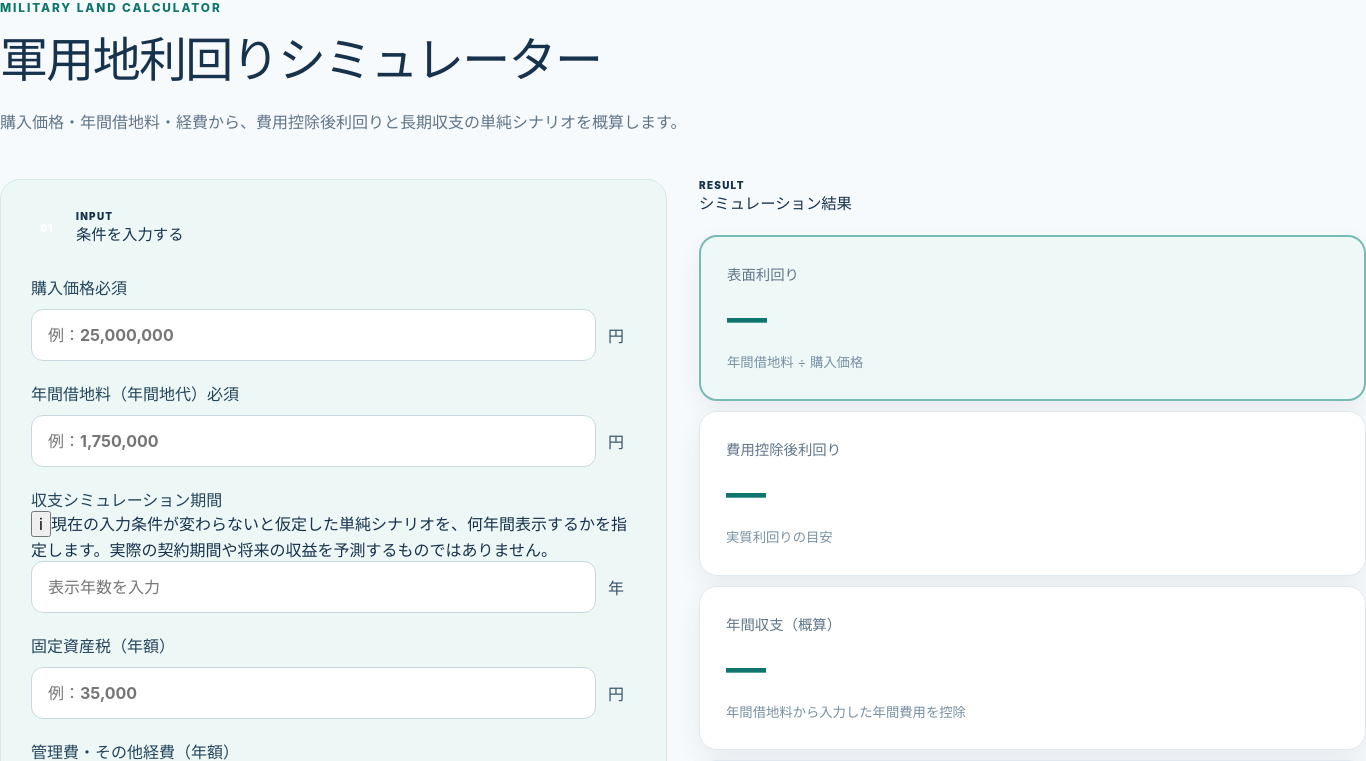
Test: MilitaryLandCalculator result navigation › reflects annual taxes and expenses in the net yield results
The width and height of the screenshot is (1366, 761).
Type "300000" into the field labelled "年間借地料（年間地代）必須 円" at x=314, y=441, box x1=31 y1=415 x2=596 y2=467
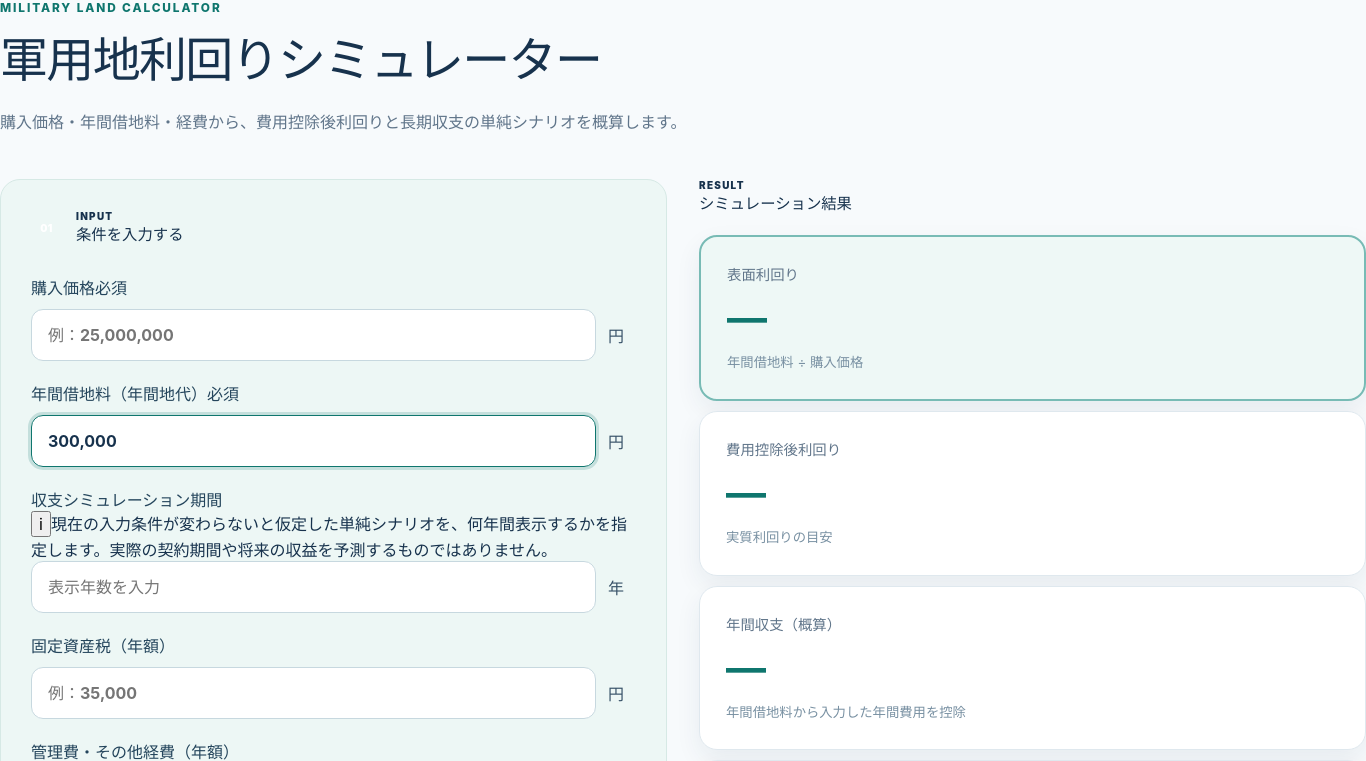
Type "15000000" into the field labelled "購入価格" at x=314, y=335, box x1=31 y1=309 x2=596 y2=361
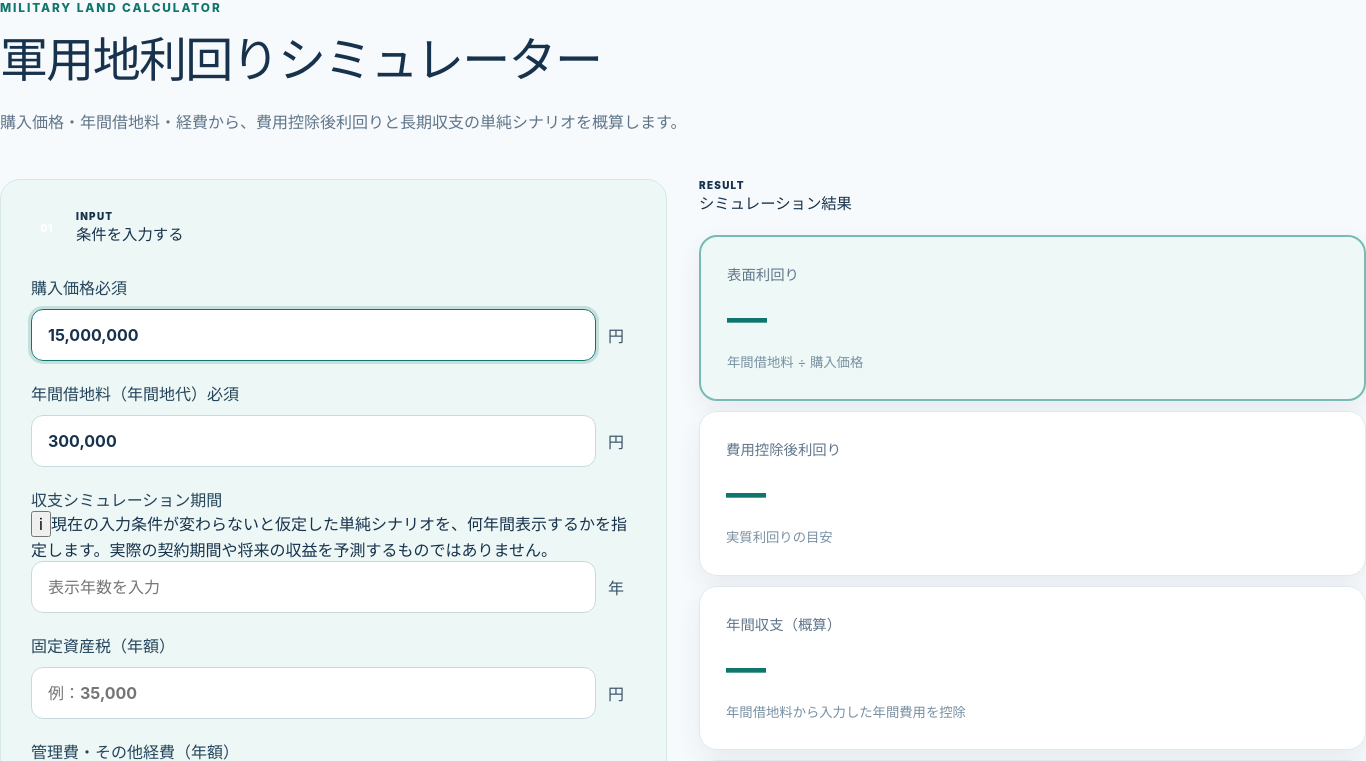
Type "35000" into the field labelled "固定資産税（年額） 円" at x=314, y=693, box x1=31 y1=667 x2=596 y2=719
(page scrolled)
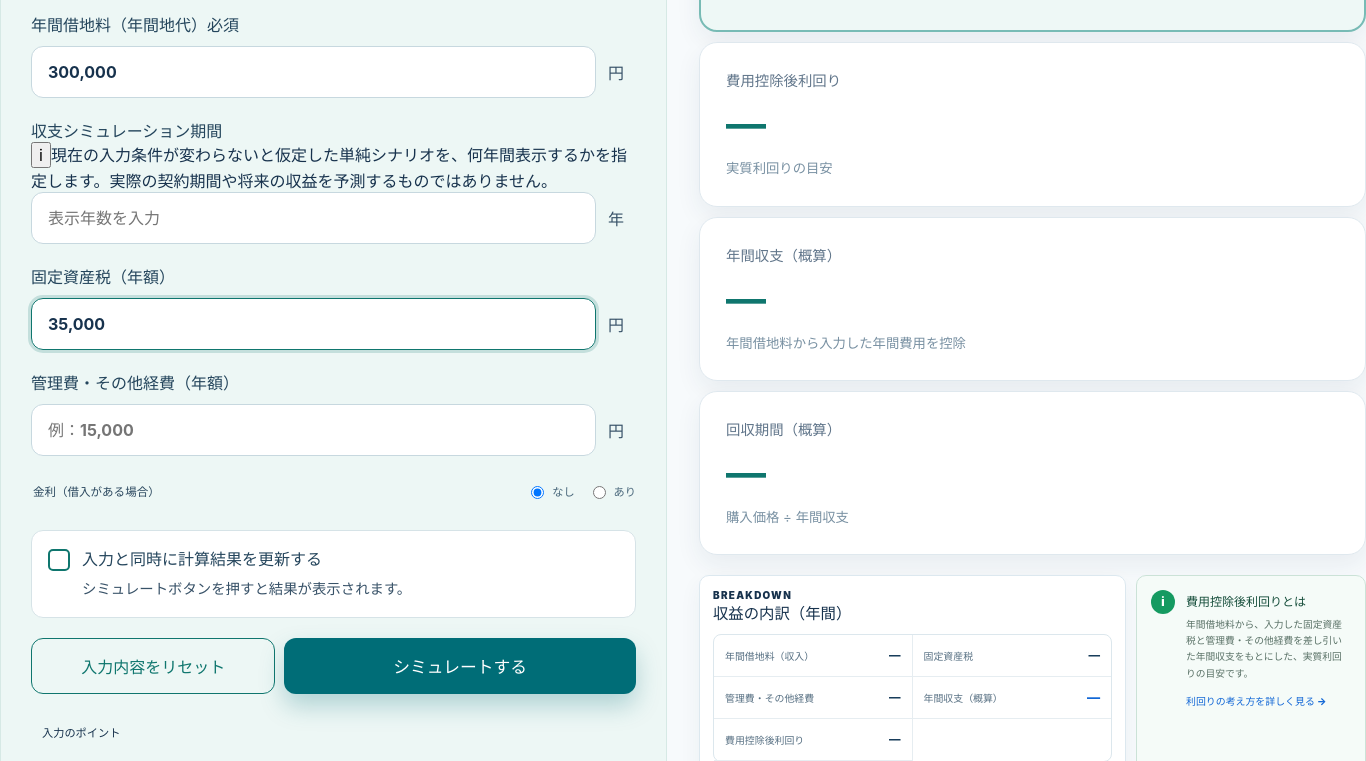
Type "15000" into the field labelled "管理費・その他経費（年額） 円" at x=314, y=430, box x1=31 y1=404 x2=596 y2=456
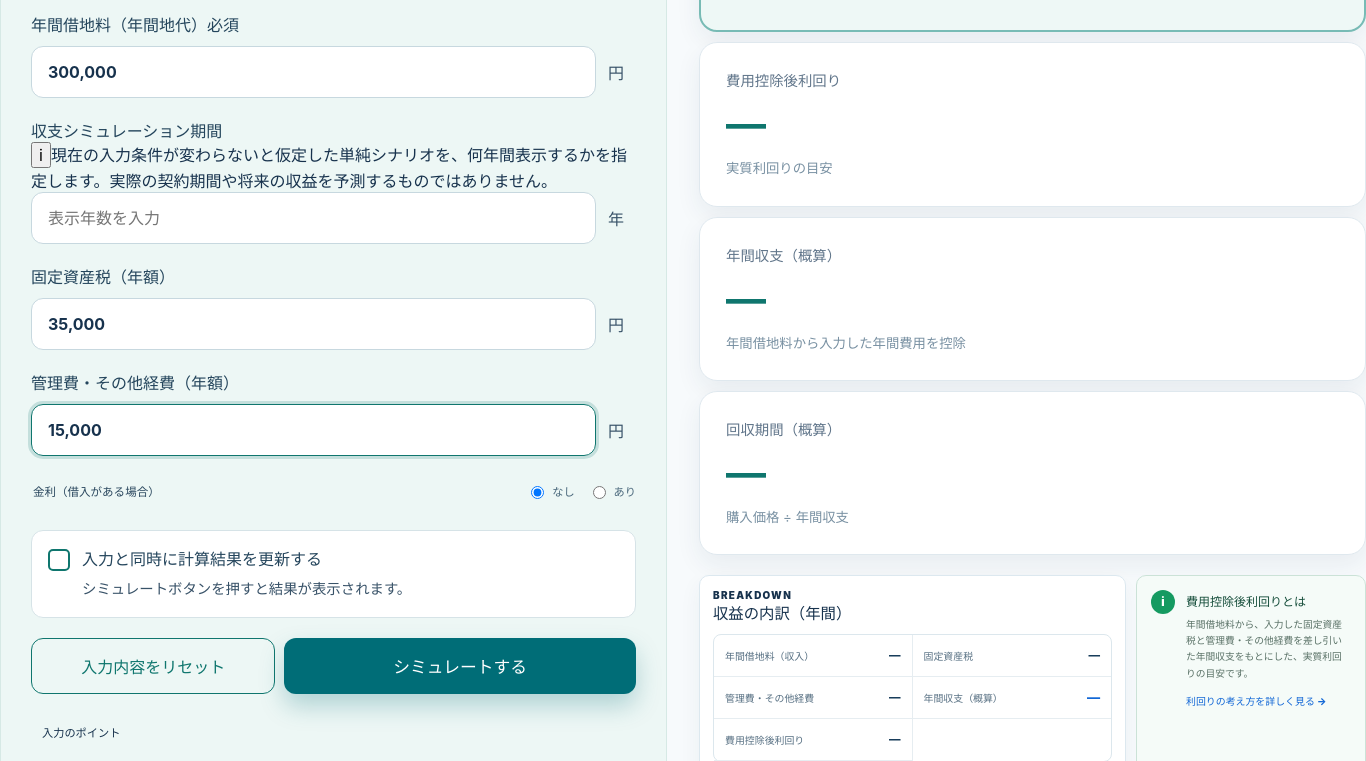
Click the button "シミュレートする" at x=460, y=666, box x1=284 y1=638 x2=636 y2=694
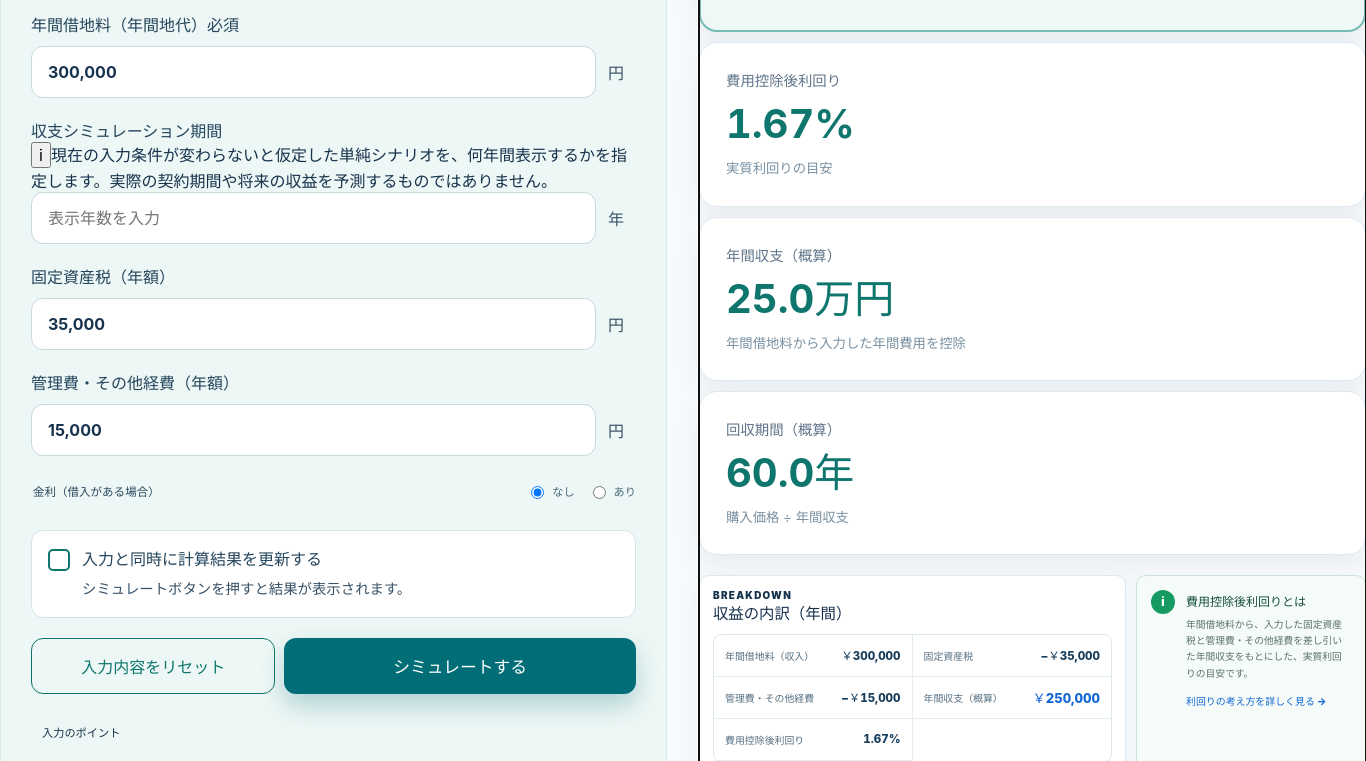
Expected: the text "1.67%" below "年間借地料 ÷ 購入価格" is shown, x1=726 y1=99 x2=855 y2=148
Expected: the text "25.0万円" is shown, x1=726 y1=274 x2=894 y2=323
Expected: the text "60.0年" is shown, x1=726 y1=448 x2=854 y2=497
